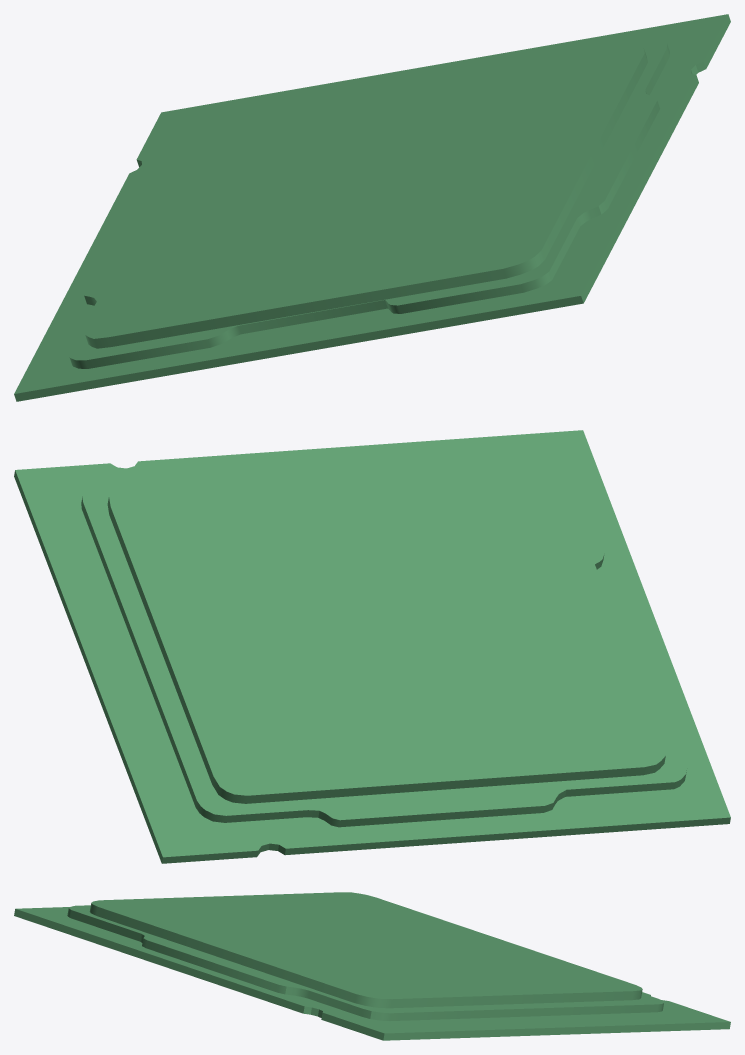
Rendered from GPU.fbx.
3 renders of one model, top to bottom at view 1: azimuth 30°, elevation 25°; view 2: azimuth 150°, elevation 25°; view 3: azimuth 270°, elevation 25°, orthographic. The views are drawn at different scales.
Parts seen in each view (by area): view 1: CPU.001; view 2: CPU.001; view 3: CPU.001.
Boxes of the visible parts, x1=… form: CPU.001: x1=14, y1=14, x2=730, y2=401; CPU.001: x1=14, y1=430, x2=730, y2=863; CPU.001: x1=14, y1=892, x2=730, y2=1040.
Bounding box in the file's own units: 189 × 49.49 × 192.
